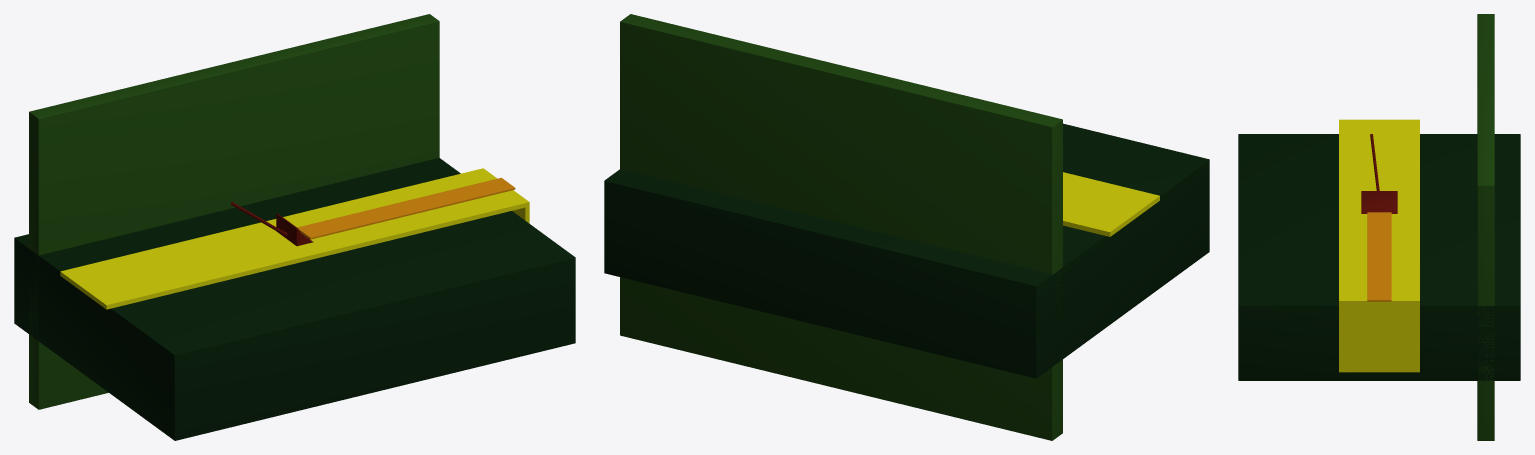
The model's file is Roll-Up Object (Aimated)&Plane.obj.
3 views of the same model, side by side, from view 1: azimuth 30°, elevation 25°; view 2: azimuth 150°, elevation 25°; view 3: azimuth 270°, elevation 25° (orthographic). The views are drawn at different scales.
Parts seen in each view (by area): view 1: Cube.001_Cube.002, Cube.002_Cube.003, Plane.001, Plane; view 2: Cube.002_Cube.003, Cube.001_Cube.002, Plane.001; view 3: Cube.001_Cube.002, Plane.001, Cube.002_Cube.003, Plane, Cube_Cube.001.
Part boxes in pixels (x1,y1,x2,y2): Cube.001_Cube.002: (14, 157, 575, 440); Cube.002_Cube.003: (29, 14, 439, 409); Plane.001: (60, 168, 529, 309); Plane: (297, 177, 515, 239); Cube.002_Cube.003: (620, 14, 1062, 440); Cube.001_Cube.002: (604, 123, 1209, 378); Plane.001: (1063, 172, 1159, 236); Cube.001_Cube.002: (1238, 134, 1520, 380); Plane.001: (1339, 119, 1419, 372); Cube.002_Cube.003: (1477, 14, 1494, 440); Plane: (1367, 212, 1391, 301); Cube_Cube.001: (1361, 191, 1397, 213).
Size of the model in its own units: 49.74 by 32.58 by 32.58.
